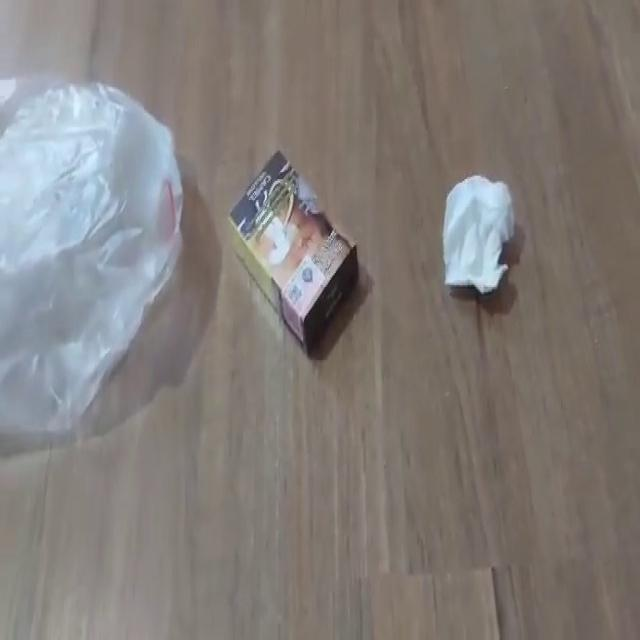Anorganik: (1, 68, 187, 442)
Organik: (225, 141, 363, 362), (441, 169, 516, 301)
